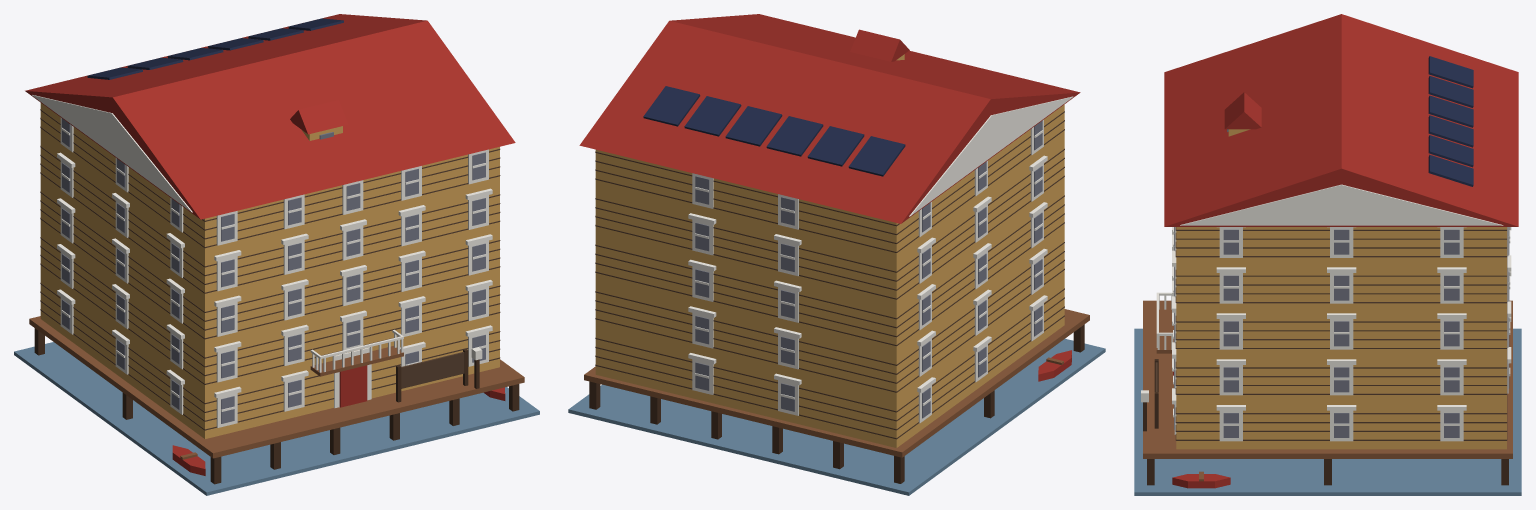
The model's file is house-2x2-5f-palafito-a-solar.glb.
The picture shows the model from 3 angles, left to right: view 1: azimuth 30°, elevation 25°; view 2: azimuth 150°, elevation 25°; view 3: azimuth 270°, elevation 25°; orthographic projection. The views are drawn at different scales.
Visible parts, largest first — view 1: house-2x2-5f-palafito-a-solar; view 2: house-2x2-5f-palafito-a-solar; view 3: house-2x2-5f-palafito-a-solar.
Part boxes in pixels (bbox=[...]): house-2x2-5f-palafito-a-solar: bbox=[14, 14, 539, 495]; house-2x2-5f-palafito-a-solar: bbox=[568, 14, 1105, 495]; house-2x2-5f-palafito-a-solar: bbox=[1134, 14, 1521, 495].
Size of the model in its own units: 1.99 by 1.83 by 1.99.
Materials: 1 (1 with a texture image).
